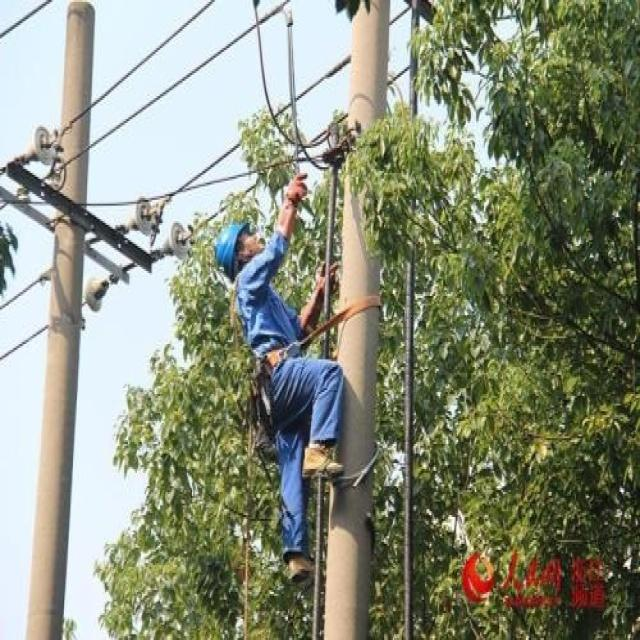helmet: (212, 292, 262, 372)
